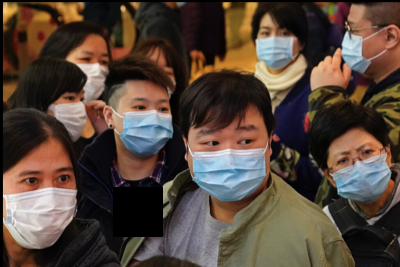with_mask: (3, 164, 78, 253), (189, 123, 269, 203), (327, 140, 391, 203), (120, 96, 174, 158), (65, 49, 109, 103), (254, 23, 295, 71), (51, 90, 88, 142), (341, 18, 371, 76)
